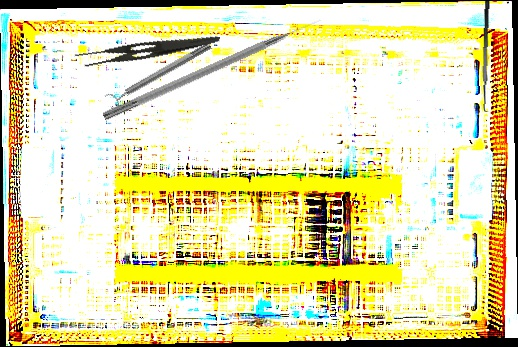Dressing Forceps: (73, 19, 221, 76)
Fixation Ring: (103, 37, 216, 112)
Hook Surgical: (101, 15, 324, 123)
Spatula Surgical: (478, 0, 499, 113)
